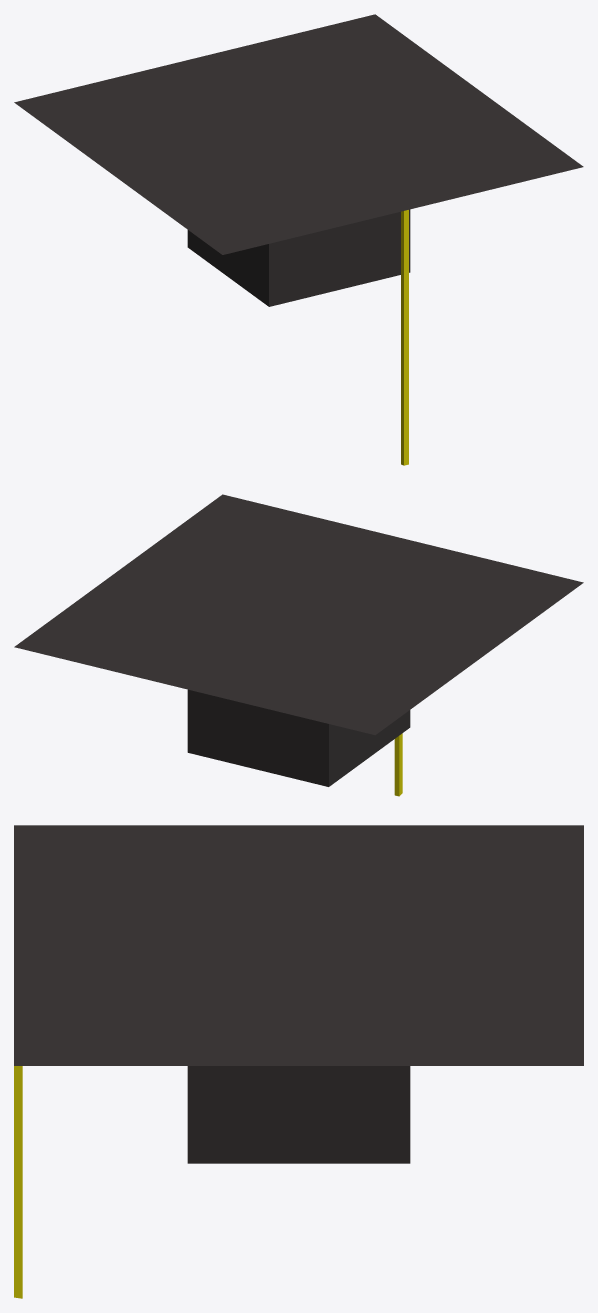
The model's file is topiToga.fbx.
3 views of the same model, one above another, from view 1: azimuth 30°, elevation 25°; view 2: azimuth 150°, elevation 25°; view 3: azimuth 270°, elevation 25° (orthographic). The views are drawn at different scales.
Visible parts, largest first — view 1: topiToga; view 2: topiToga; view 3: topiToga.
Boxes of the visible parts, left/top/right/bottom form: topiToga: left=14, top=14, right=583, bottom=465; topiToga: left=14, top=494, right=583, bottom=796; topiToga: left=14, top=825, right=583, bottom=1298.
Bounding box in the file's own units: 461 × 312 × 461.
